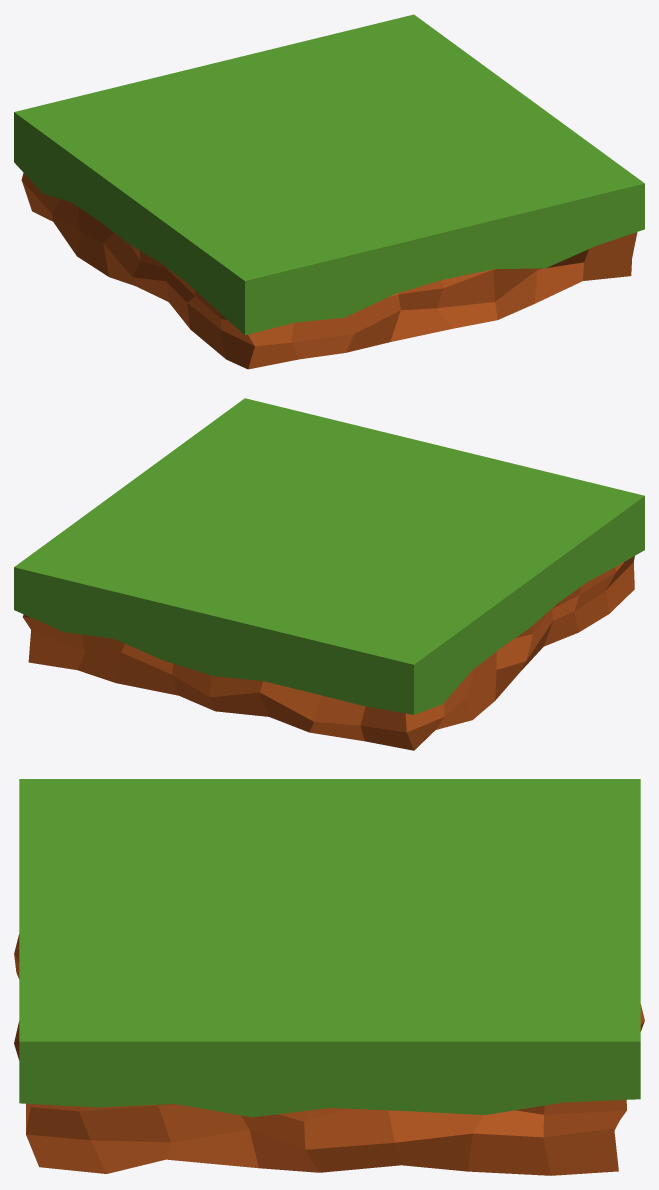
File: platform_flat.fbx
3 renders of one model, top to bottom at view 1: azimuth 30°, elevation 25°; view 2: azimuth 150°, elevation 25°; view 3: azimuth 270°, elevation 25°, orthographic. The views are drawn at different scales.
Visible parts, largest first — view 1: Cube, Cube.001; view 2: Cube, Cube.001; view 3: Cube, Cube.001.
Part boxes in pixels (x1=…): Cube: x1=14, y1=14, x2=644, y2=335; Cube.001: x1=21, y1=173, x2=637, y2=369; Cube: x1=14, y1=398, x2=644, y2=714; Cube.001: x1=23, y1=556, x2=634, y2=750; Cube: x1=19, y1=779, x2=640, y2=1117; Cube.001: x1=14, y1=934, x2=644, y2=1175.
Size of the model in its own units: 8057 by 2005 by 8125.
